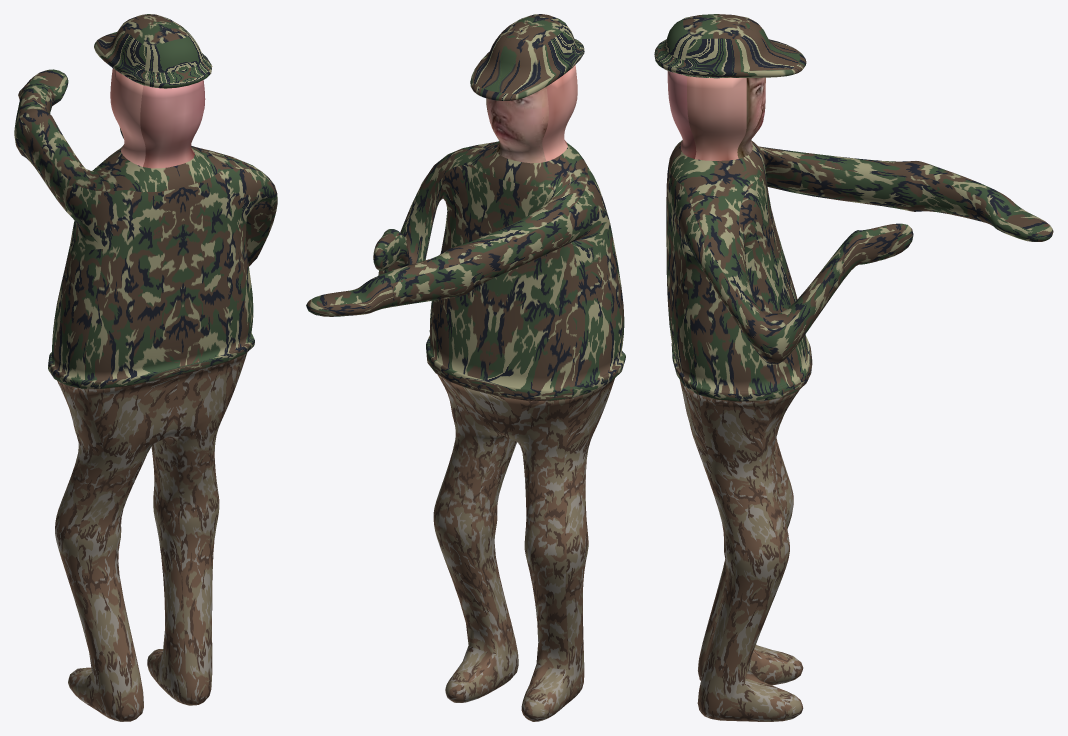
Rendered from GunnerMenu.fbx.
3 views of the same model, side by side, from view 1: azimuth 30°, elevation 25°; view 2: azimuth 150°, elevation 25°; view 3: azimuth 270°, elevation 25° (orthographic). The views are drawn at different scales.
Visible parts, largest first — view 1: Cube; view 2: Cube; view 3: Cube.
Boxes of the visible parts, <box> form: Cube: <box>14,14,277,721</box>; Cube: <box>306,14,625,721</box>; Cube: <box>654,14,1053,721</box>.
Size of the model in its own units: 58.44 by 174 by 92.22.
